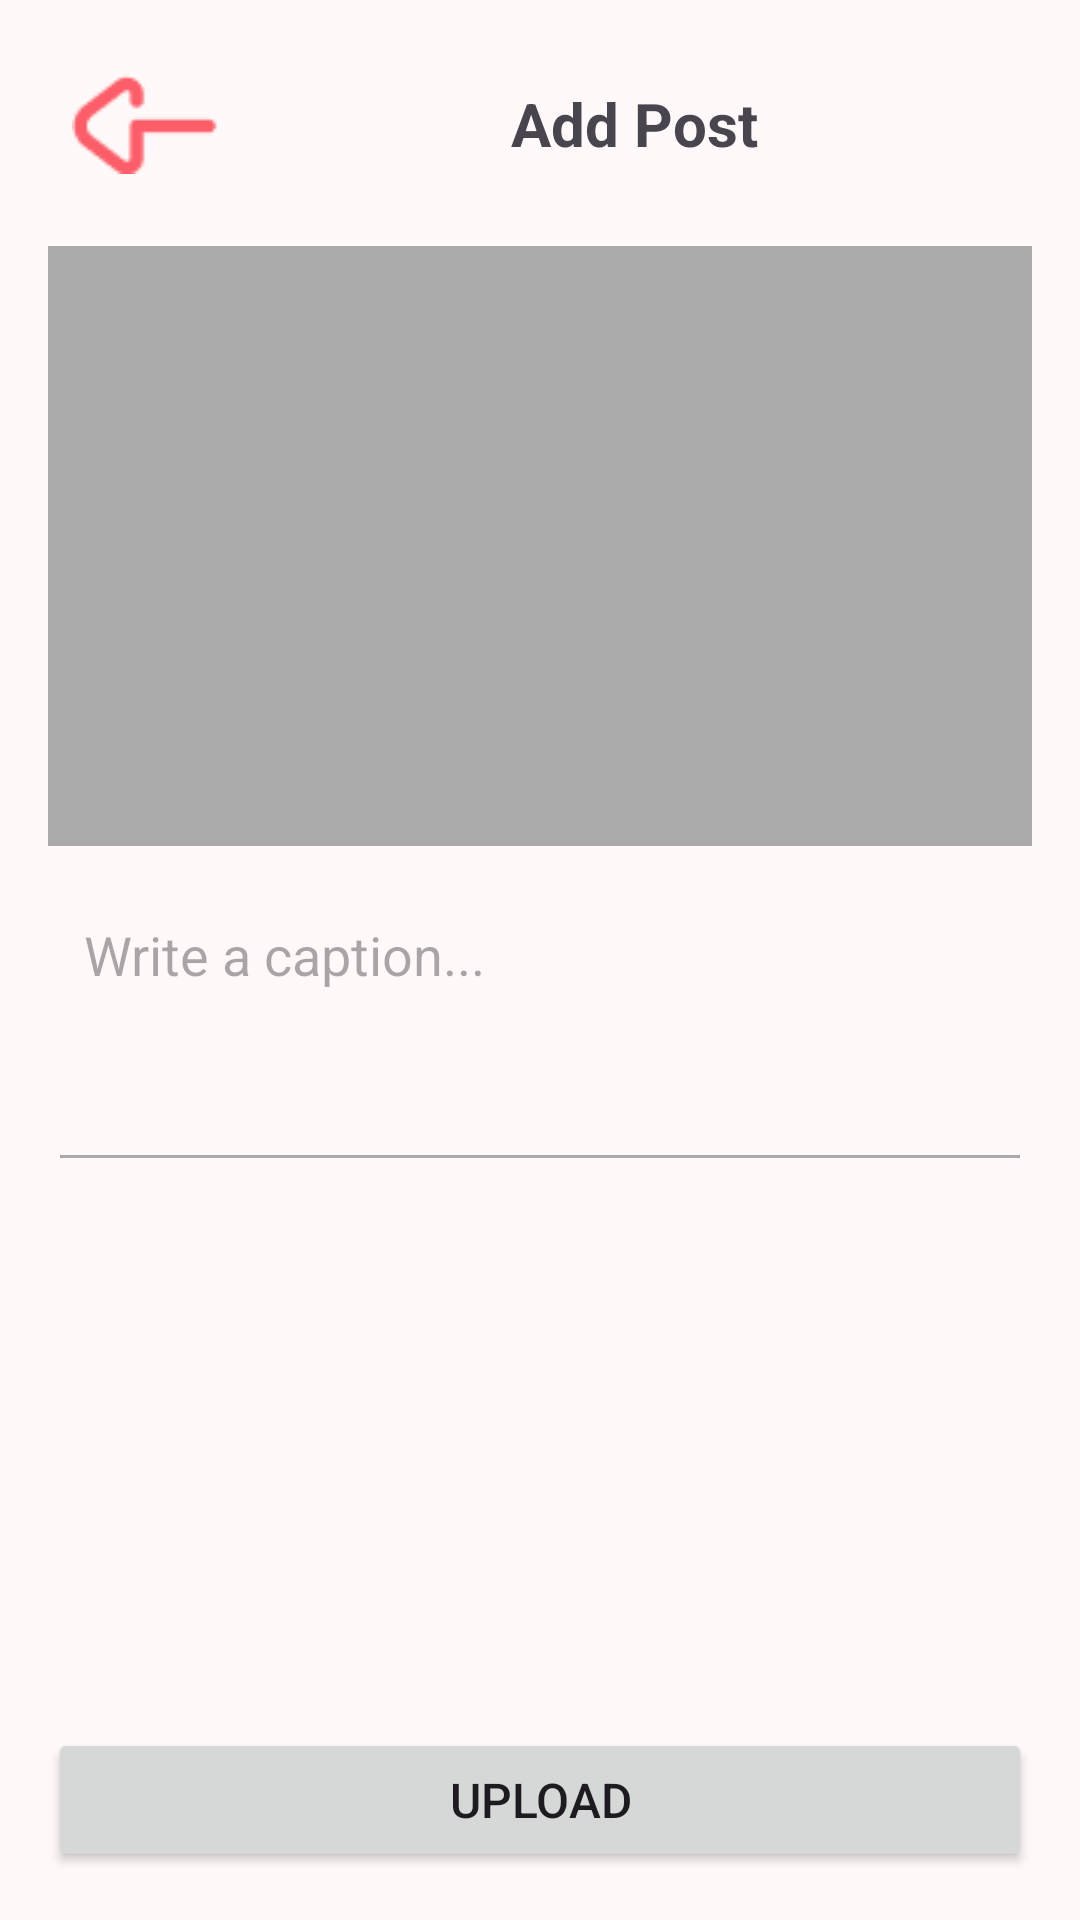

Icon click points for this 1080x1920 phone screenshot, format [x,y]:
back arrow: [144,125]
